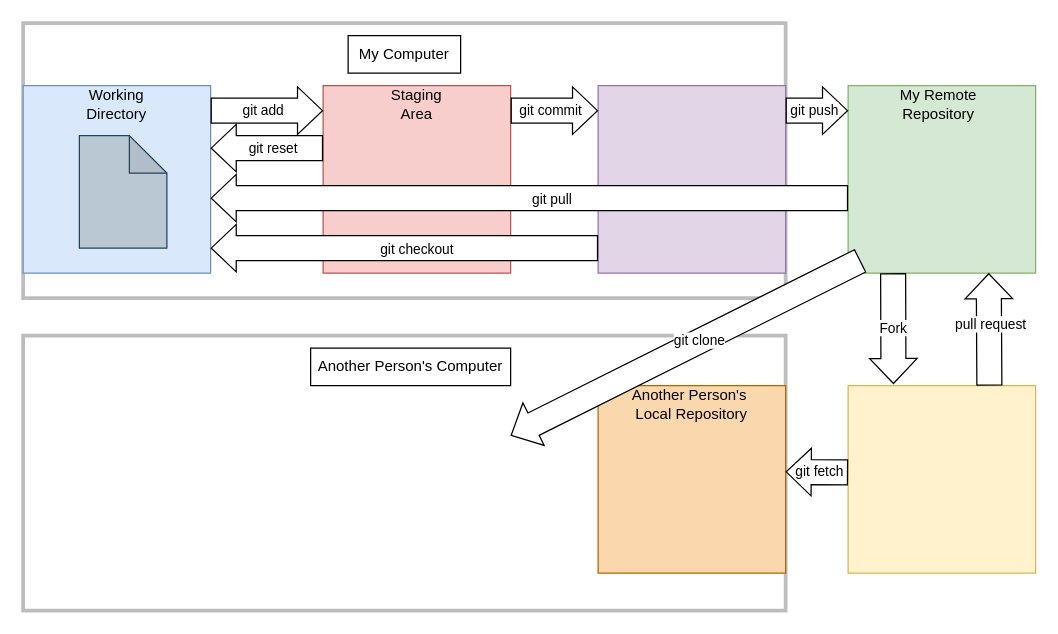
The diagram is 1058 pixels wide and 634 high, and some of its shapes have lost their labels. The centre of each missing label's shape, as x and y in pixels:
"Another Person's Remote Repository" belongs at pixel 941 478.
"File" belongs at pixel 122 191.
"My Local Repository" belongs at pixel 691 178.
